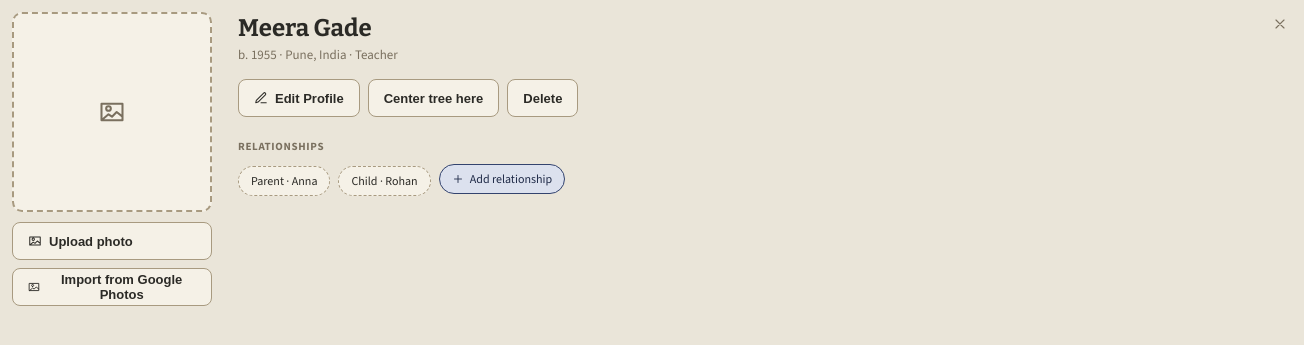
Test case: clicking "Import from Google Photos" uploads the picked file the same way as a local upload
The width and height of the screenshot is (1304, 345).
Click the button "Import from Google Photos".
click(112, 287)  # box [12,268,212,306]
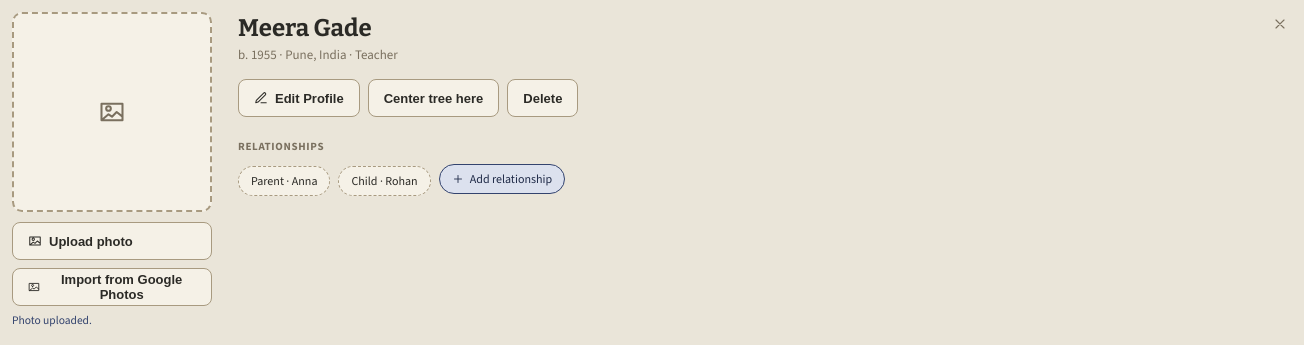
Now the text "Photo uploaded." is shown, box [12,312,92,328]
